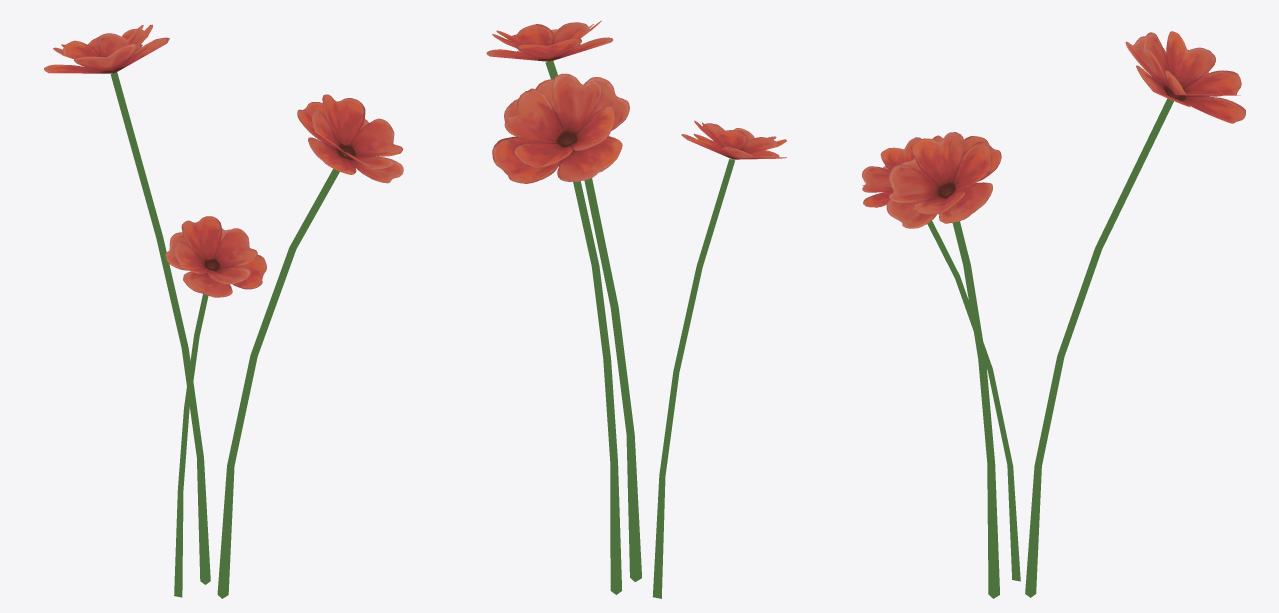
The model's file is SM_Flower_01_01.fbx.
The picture shows the model from 3 angles, left to right: view 1: azimuth 30°, elevation 25°; view 2: azimuth 150°, elevation 25°; view 3: azimuth 270°, elevation 25°; orthographic projection. The views are drawn at different scales.
Parts seen in each view (by area): view 1: SM_Flower_01_01_LOD0; view 2: SM_Flower_01_01_LOD0; view 3: SM_Flower_01_01_LOD0.
Boxes of the visible parts, box(x1,y1,x2,y2) form: SM_Flower_01_01_LOD0: box(44, 24, 403, 598); SM_Flower_01_01_LOD0: box(486, 20, 786, 598); SM_Flower_01_01_LOD0: box(862, 31, 1245, 598).
Size of what is drawn, in the model's own units: 35.57 by 65.41 by 45.1.
